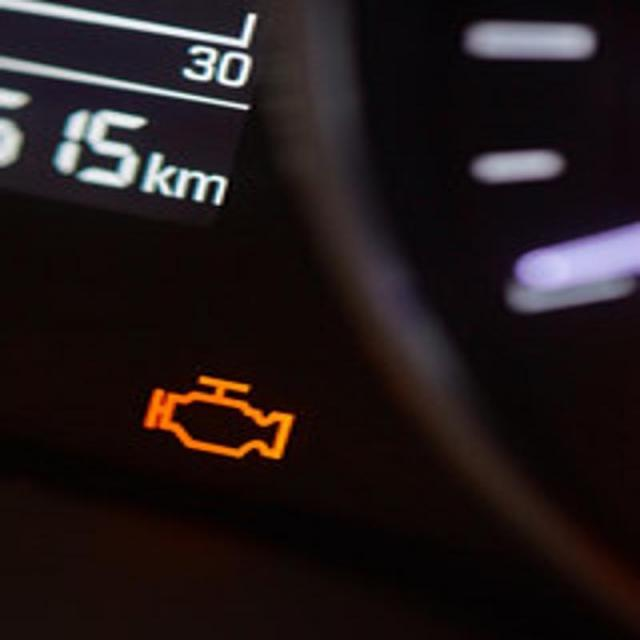EngineWarning: (143, 372, 294, 459)
